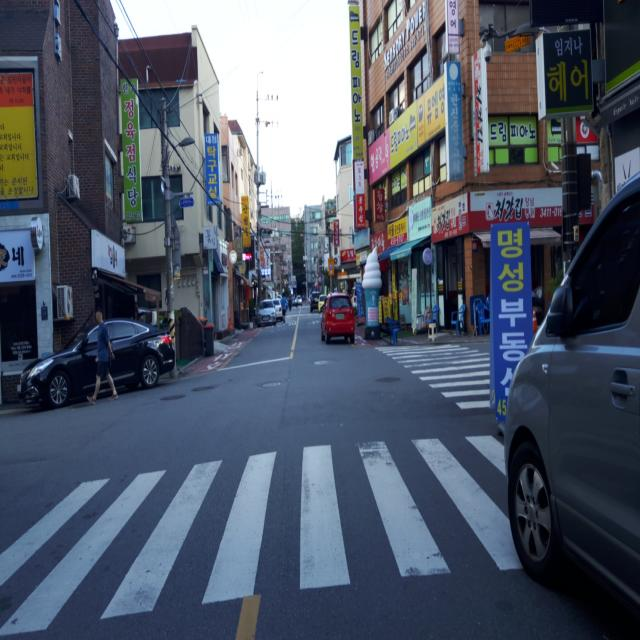횡단보도: (0, 428, 537, 608), (373, 342, 491, 412)
